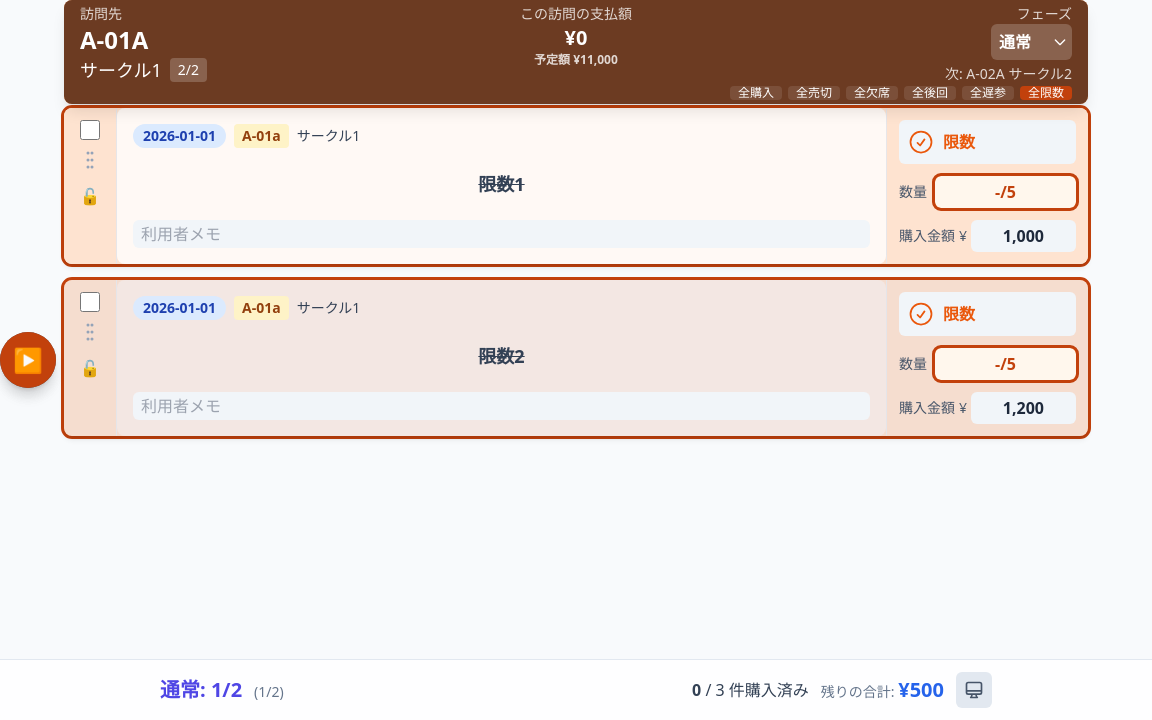
Test case: FocusMode limited purchase defer - integration › allows moving forward after every missing limited purchase item in the visit is deferred
The image size is (1152, 720).
Click the 1st button "-/5": [1006, 192] box x1=935 y1=176 x2=1076 y2=208
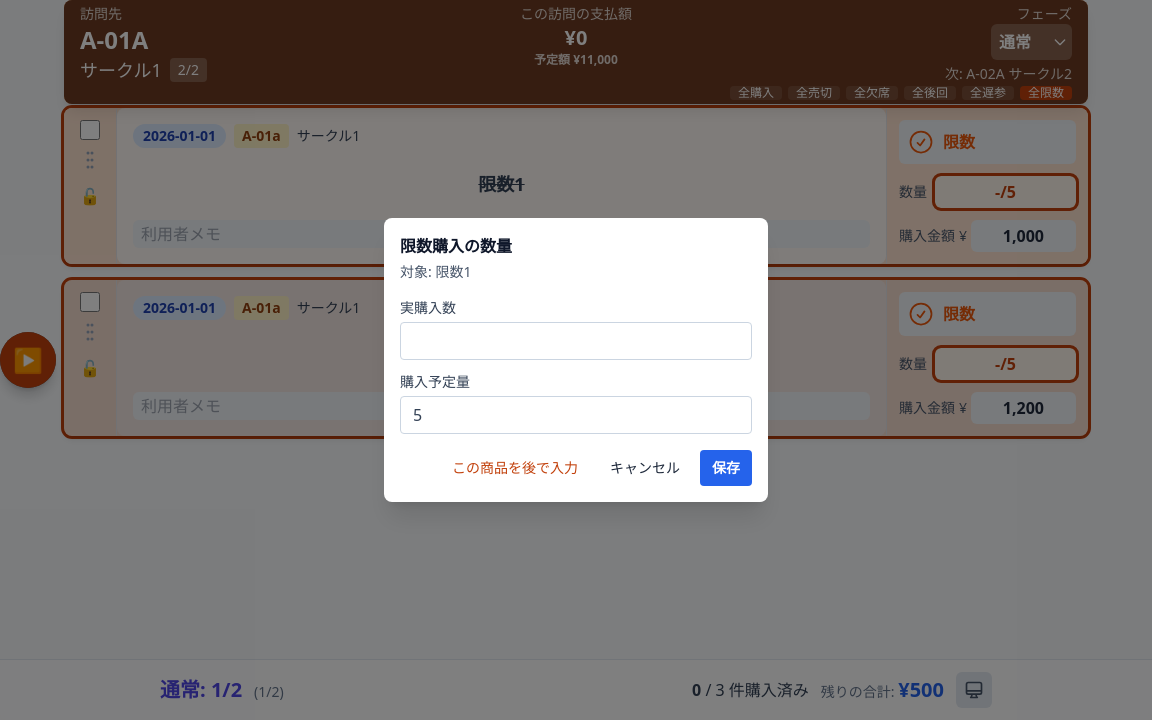
Click the button "この商品を後で入力": [515, 468] box x1=440 y1=450 x2=590 y2=486
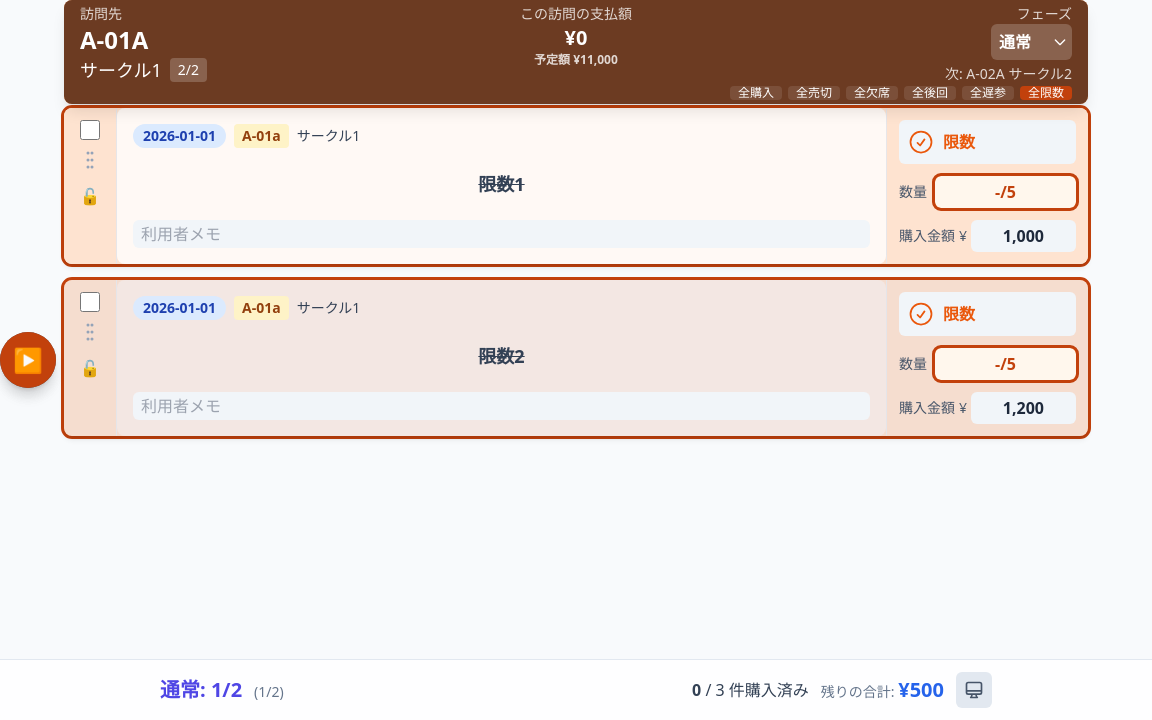
Click the 2nd button "-/5": [1006, 364] box x1=935 y1=348 x2=1076 y2=380
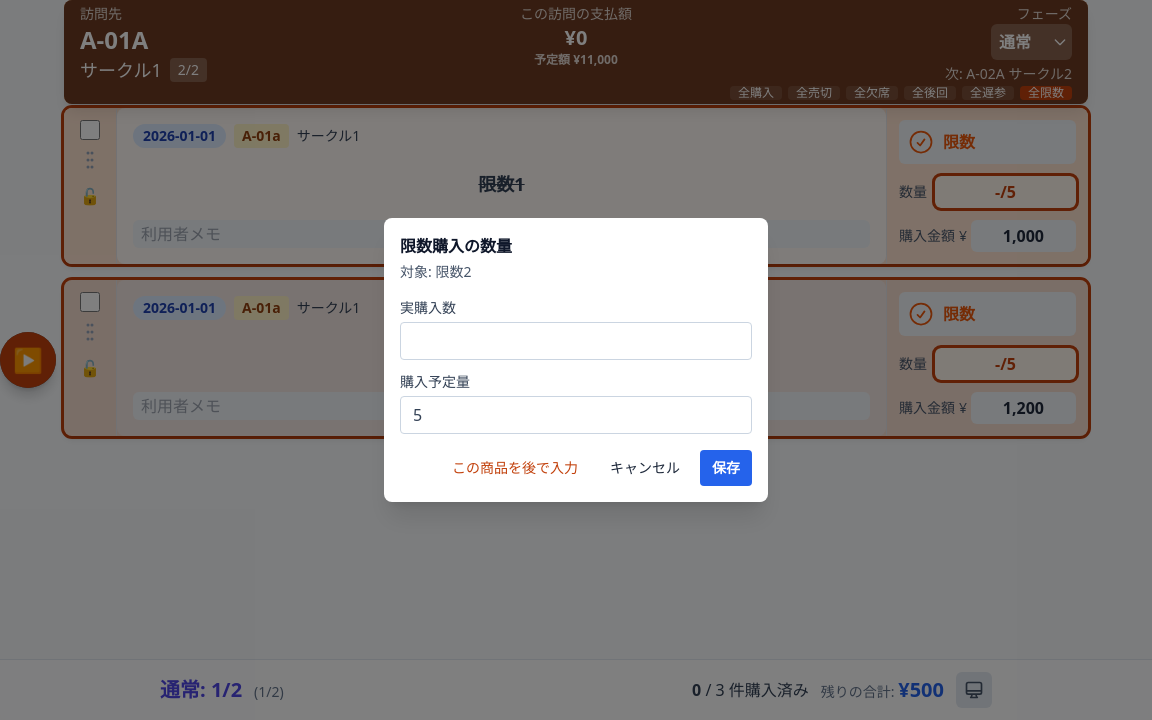
Click the button "この商品を後で入力": [515, 468] box x1=440 y1=450 x2=590 y2=486
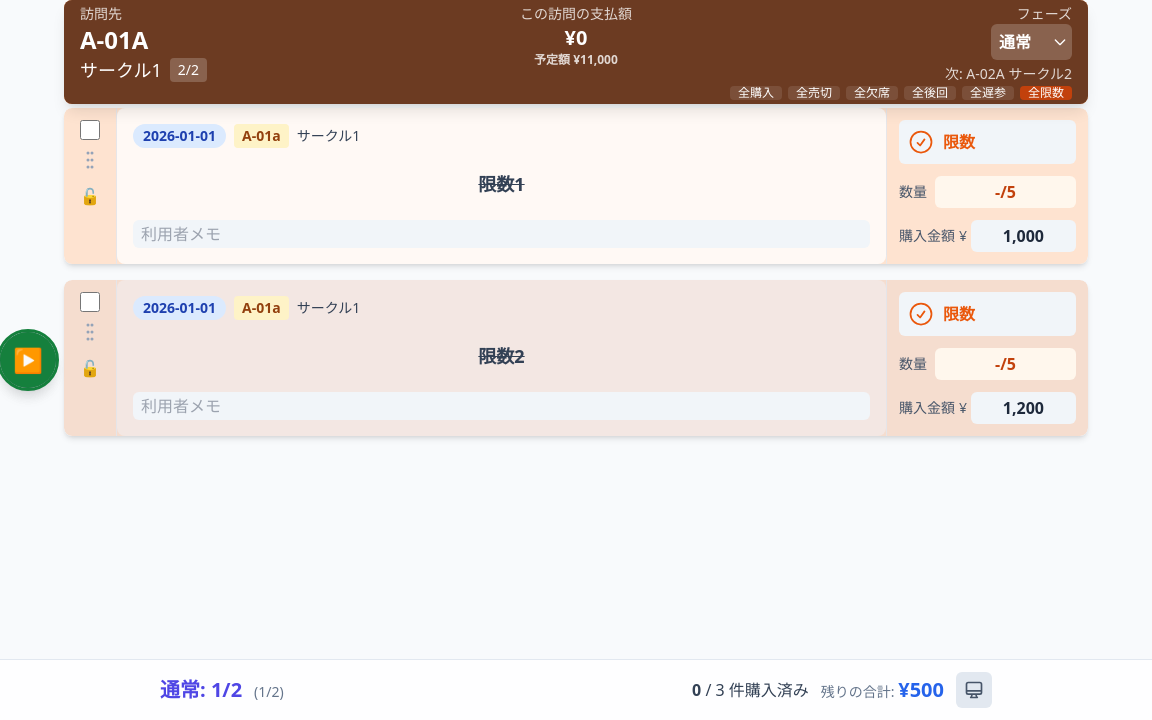
Click the button titled "次の訪問先": [28, 360] box x1=0 y1=332 x2=56 y2=388
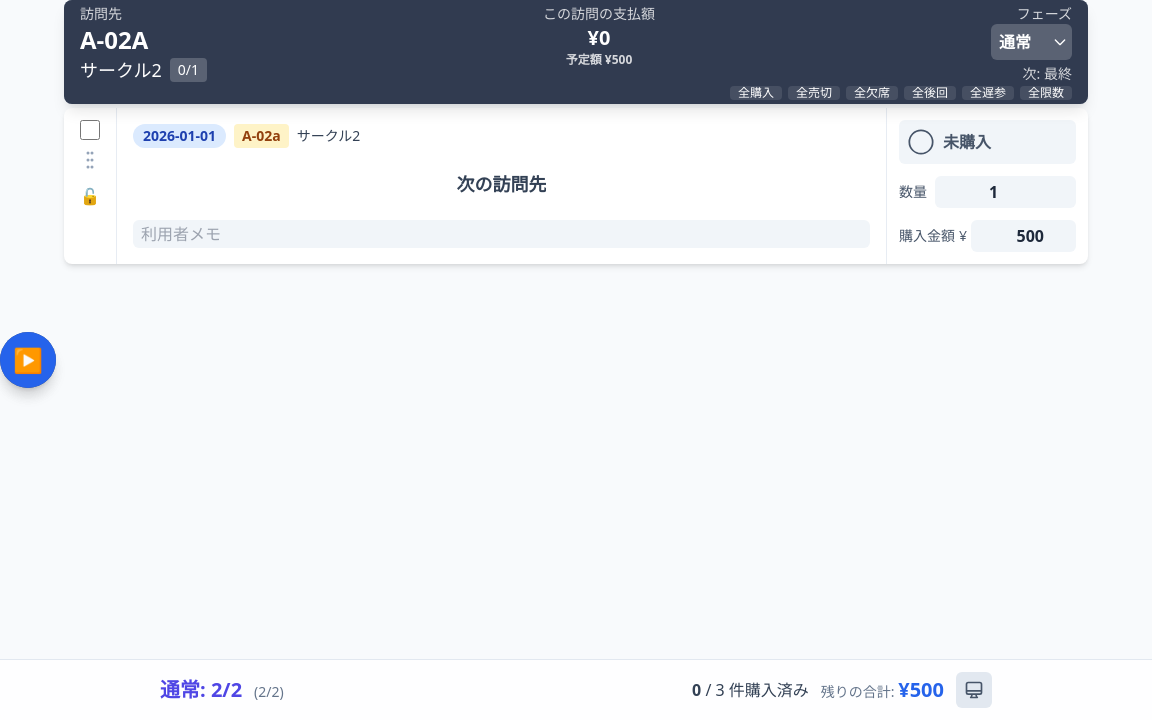
Expected: the text "A-02A" is shown, x1=80 y1=23 x2=148 y2=56
